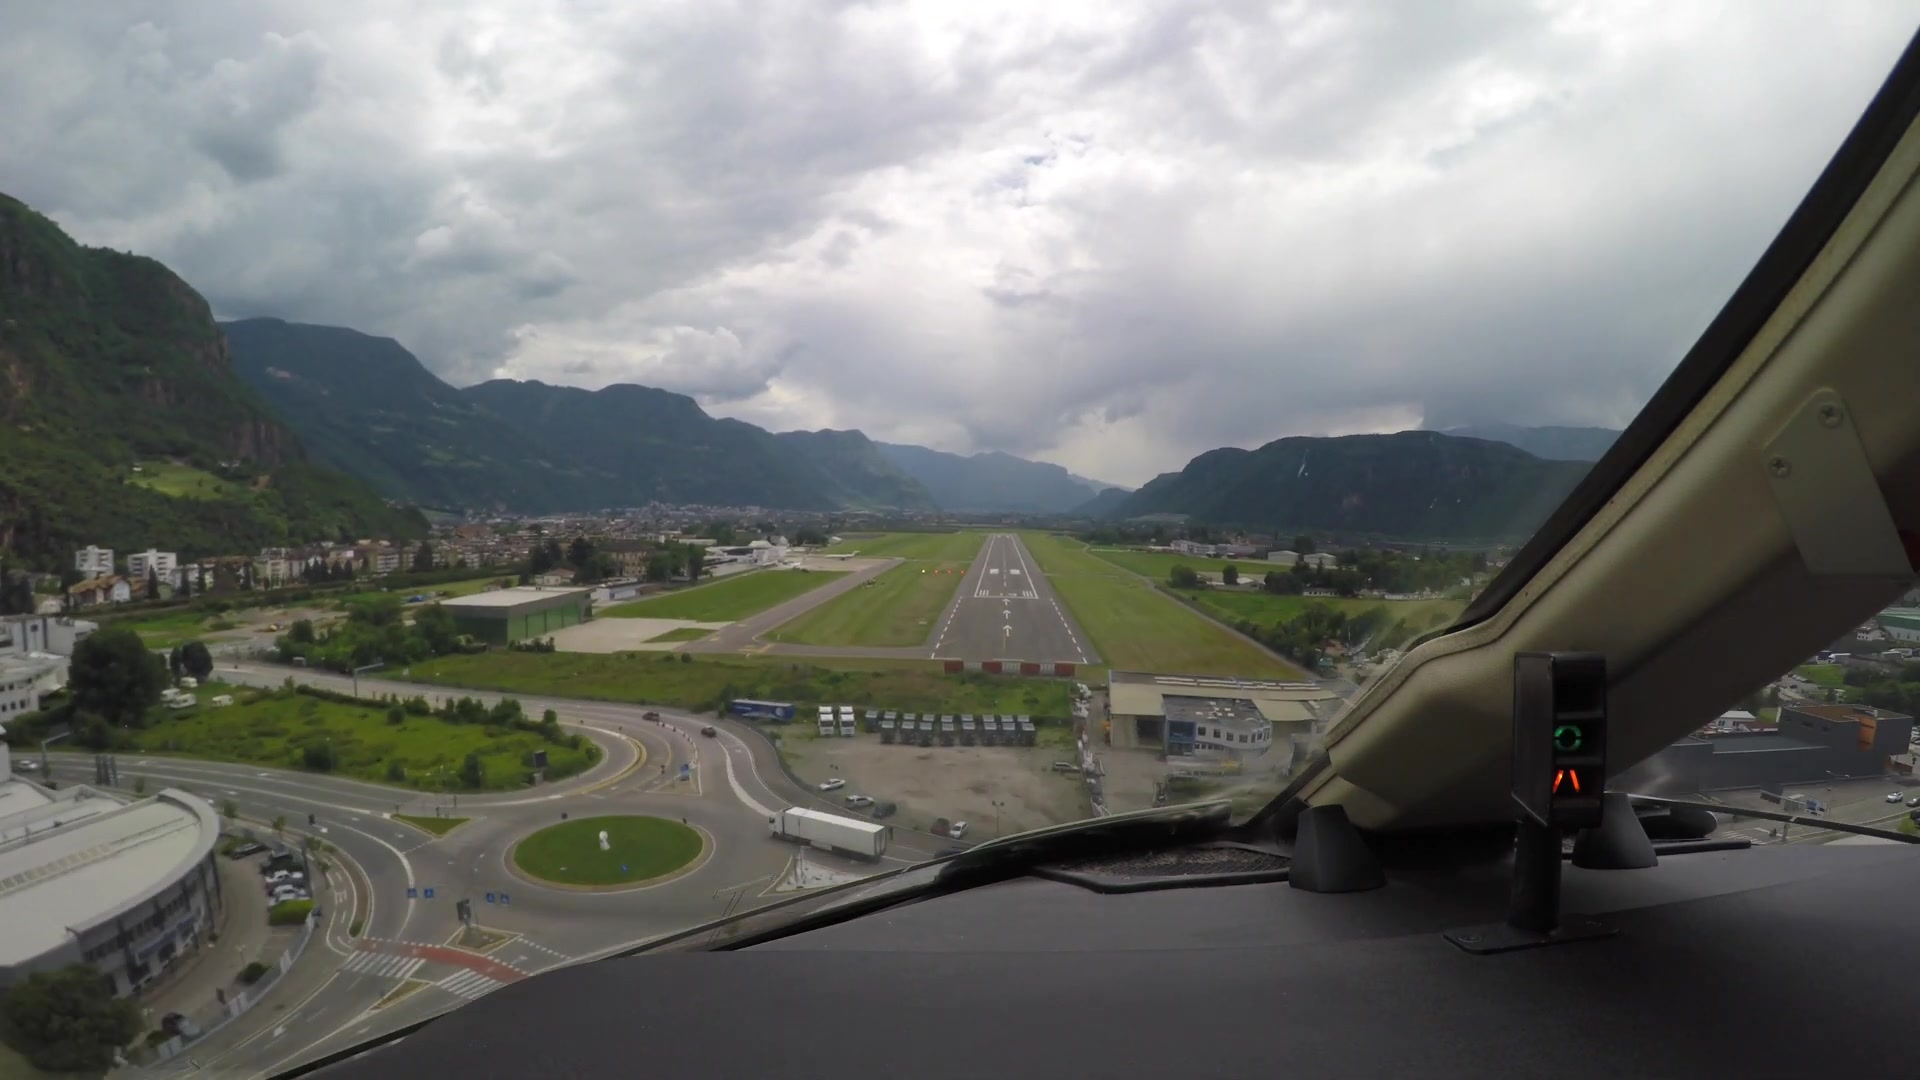entrance: (977, 589, 1035, 597)
runway: (926, 531, 1098, 667)
